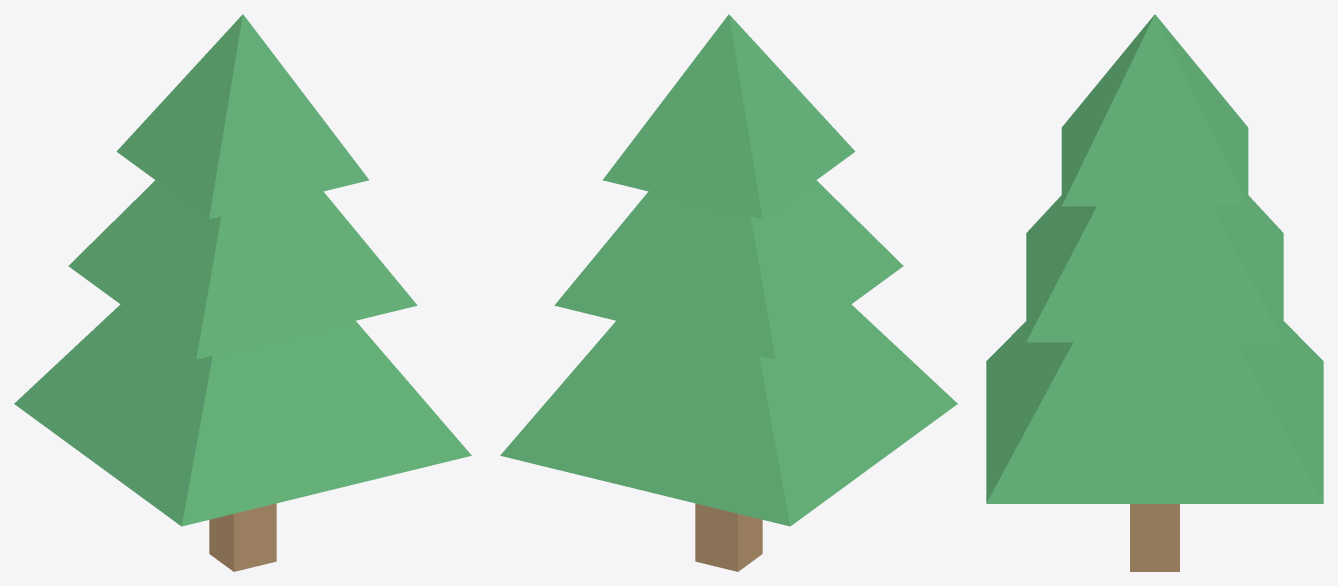
The model's file is pine.gltf.
The picture shows the model from 3 angles, left to right: view 1: azimuth 30°, elevation 25°; view 2: azimuth 150°, elevation 25°; view 3: azimuth 270°, elevation 25°; orthographic projection.
Visible parts, largest first — view 1: foliage (×3), trunk; view 2: foliage (×3), trunk; view 3: foliage (×3), trunk.
Part boxes in pixels (x1,y1,x2,y2): foliage (×3): (14,14,471,526); trunk: (209,503,276,571); foliage (×3): (500,14,957,526); trunk: (695,503,762,571); foliage (×3): (986,14,1323,503); trunk: (1130,504,1179,571).
Bounding box in the file's own units: 1.9 × 3.4 × 1.9.
